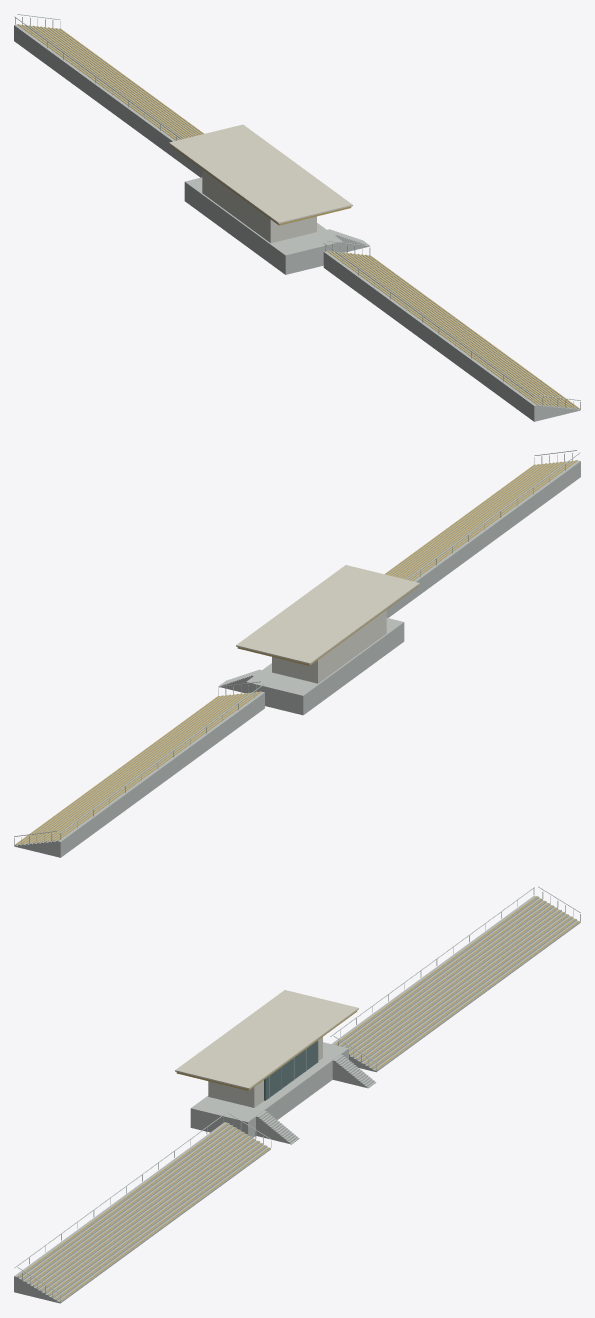
Rendered from sports_grandstand.glb.
The picture shows the model from 3 angles, top to bottom: view 1: azimuth 30°, elevation 25°; view 2: azimuth 150°, elevation 25°; view 3: azimuth 330°, elevation 25°; orthographic projection.
Visible parts, largest first — view 1: sports_grandstand_StandConcrete, sports_grandstand_StandTrim, sports_grandstand_DormCream, sports_grandstand_DormPale, sports_grandstand_SportsSteel; view 2: sports_grandstand_StandConcrete, sports_grandstand_StandTrim, sports_grandstand_DormCream, sports_grandstand_DormPale, sports_grandstand_SportsSteel; view 3: sports_grandstand_StandConcrete, sports_grandstand_StandTrim, sports_grandstand_DormCream, sports_grandstand_SportsSteel, sports_grandstand_WindowGlass, sports_grandstand_DormPale.
Part boxes in pixels (<box>): sports_grandstand_StandConcrete: <box>14,24,580,421</box>; sports_grandstand_StandTrim: <box>17,24,579,408</box>; sports_grandstand_DormCream: <box>169,124,352,223</box>; sports_grandstand_DormPale: <box>202,169,316,242</box>; sports_grandstand_SportsSteel: <box>14,14,580,409</box>; sports_grandstand_StandConcrete: <box>14,460,580,857</box>; sports_grandstand_StandTrim: <box>15,460,577,844</box>; sports_grandstand_DormCream: <box>236,565,419,664</box>; sports_grandstand_DormPale: <box>272,610,386,683</box>; sports_grandstand_SportsSteel: <box>14,450,580,845</box>; sports_grandstand_StandConcrete: <box>14,895,580,1303</box>; sports_grandstand_StandTrim: <box>18,896,578,1301</box>; sports_grandstand_DormCream: <box>175,990,358,1089</box>; sports_grandstand_SportsSteel: <box>14,886,580,1301</box>; sports_grandstand_WindowGlass: <box>264,1041,317,1100</box>; sports_grandstand_DormPale: <box>208,1037,322,1107</box>.
Bounding box in the file's own units: 14.9 × 7.94 × 129.
